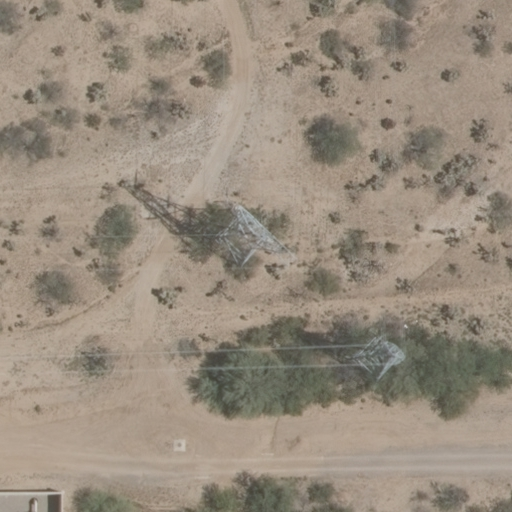TT: (176, 192, 301, 284), (335, 330, 410, 391)
